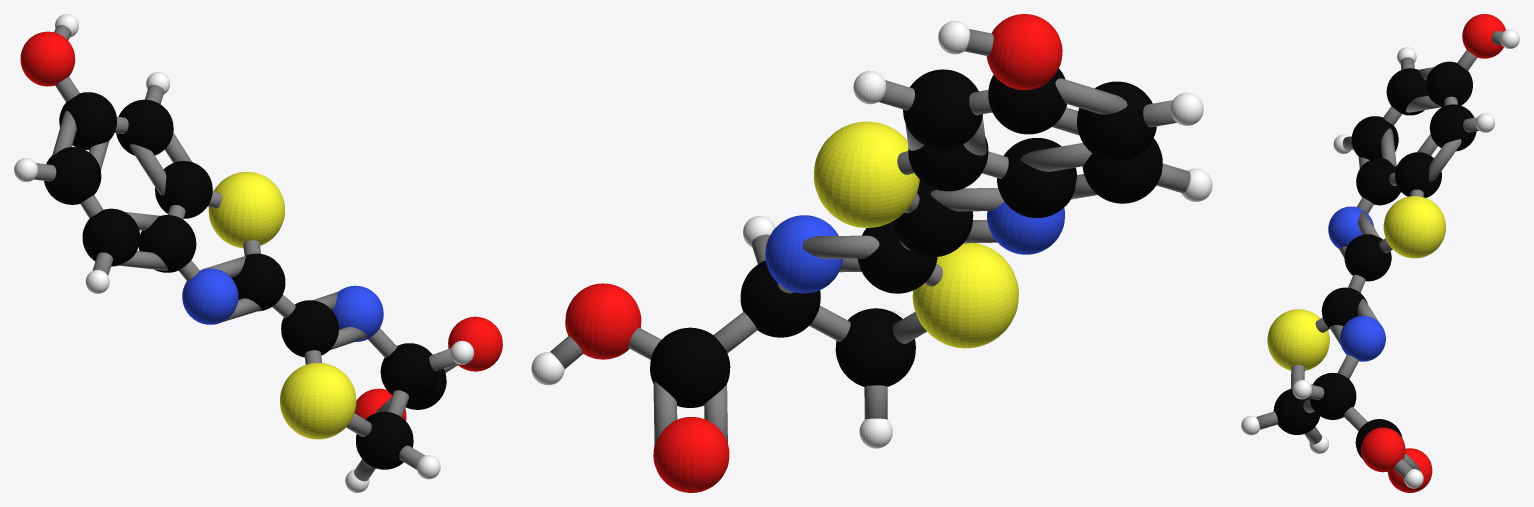
The model's file is LUCIFERINA.obj.
3 renders of one model, left to right at view 1: azimuth 30°, elevation 25°; view 2: azimuth 150°, elevation 25°; view 3: azimuth 270°, elevation 25°, orthographic. The views are drawn at different scales.
Visible parts, largest first — view 1: Carbon_ball_Sphere, Sulfur_ball_Sphere.004, Oxygen_ball_Sphere.002, Nitrogen_ball_Sphere.003, Hydrogen_ball_Sphere.001, Stick_Cylinder.032_Cylinder.032, Stick_Cylinder.024_Cylinder.024, Stick_Cylinder.031_Cylinder.031; view 2: Carbon_ball_Sphere, Sulfur_ball_Sphere.004, Oxygen_ball_Sphere.002, Nitrogen_ball_Sphere.003, Hydrogen_ball_Sphere.001, Stick_Cylinder.029_Cylinder.029, Stick_Cylinder.024_Cylinder.024, Stick_Cylinder.021_Cylinder.021, Stick_Cylinder.030_Cylinder.030, Stick_Cylinder.028_Cylinder.028, Stick_Cylinder.007_Cylinder.007, Stick_Cylinder.005_Cylinder.005 (+3 smaller); view 3: Carbon_ball_Sphere, Sulfur_ball_Sphere.004, Oxygen_ball_Sphere.002, Nitrogen_ball_Sphere.003, Hydrogen_ball_Sphere.001, Stick_Cylinder_Cylinder, Stick_Cylinder.021_Cylinder.021, Stick_Cylinder.033_Cylinder.033, Stick_Cylinder.007_Cylinder.007.
Part boxes in pixels (x1,y1,x2,y2): Carbon_ball_Sphere: (44, 92, 446, 469); Sulfur_ball_Sphere.004: (208, 172, 356, 439); Oxygen_ball_Sphere.002: (20, 31, 502, 420); Nitrogen_ball_Sphere.003: (182, 268, 383, 341); Hydrogen_ball_Sphere.001: (14, 14, 473, 492); Stick_Cylinder.032_Cylinder.032: (130, 144, 166, 195); Stick_Cylinder.024_Cylinder.024: (52, 110, 76, 155); Stick_Cylinder.031_Cylinder.031: (118, 251, 168, 270); Carbon_ball_Sphere: (650, 68, 1162, 407); Sulfur_ball_Sphere.004: (813, 121, 1018, 348); Oxygen_ball_Sphere.002: (565, 14, 1062, 492); Nitrogen_ball_Sphere.003: (765, 202, 1064, 293); Hydrogen_ball_Sphere.001: (531, 21, 1212, 448); Stick_Cylinder.029_Cylinder.029: (802, 235, 879, 258); Stick_Cylinder.024_Cylinder.024: (1055, 78, 1127, 114); Stick_Cylinder.021_Cylinder.021: (1020, 143, 1092, 171); Stick_Cylinder.030_Cylinder.030: (930, 188, 1004, 211); Stick_Cylinder.028_Cylinder.028: (653, 381, 677, 445); Stick_Cylinder.007_Cylinder.007: (713, 312, 757, 353); Stick_Cylinder.005_Cylinder.005: (809, 305, 850, 341); Carbon_ball_Sphere: (1273, 61, 1476, 458); Sulfur_ball_Sphere.004: (1267, 196, 1445, 370); Oxygen_ball_Sphere.002: (1361, 14, 1505, 492); Nitrogen_ball_Sphere.003: (1328, 206, 1385, 361); Hydrogen_ball_Sphere.001: (1241, 29, 1519, 488); Stick_Cylinder_Cylinder: (1429, 139, 1461, 181); Stick_Cylinder.021_Cylinder.021: (1380, 128, 1396, 166); Stick_Cylinder.033_Cylinder.033: (1406, 96, 1440, 112); Stick_Cylinder.007_Cylinder.007: (1343, 407, 1367, 430).
Bounding box in the file's own units: 13.18 × 11.7 × 8.18.
